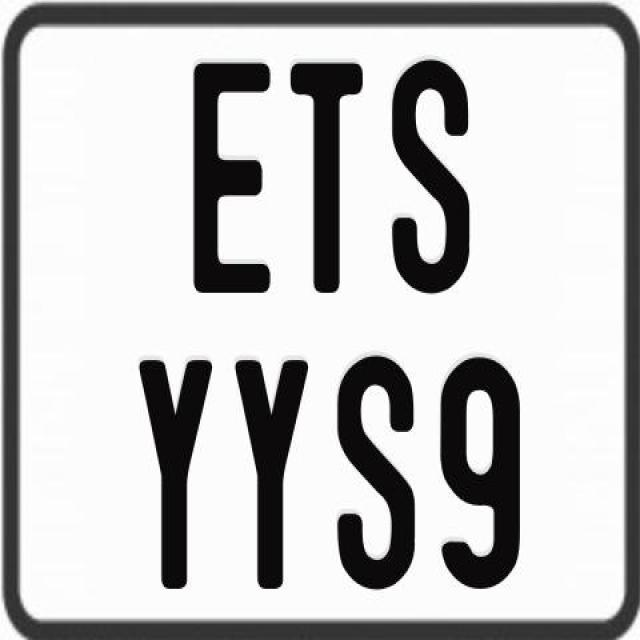9: (438, 354, 526, 588)
E: (189, 62, 267, 302)
S: (388, 55, 468, 292), (338, 354, 416, 590)
T: (289, 62, 368, 298)
Y: (136, 360, 217, 592), (232, 358, 312, 589)
